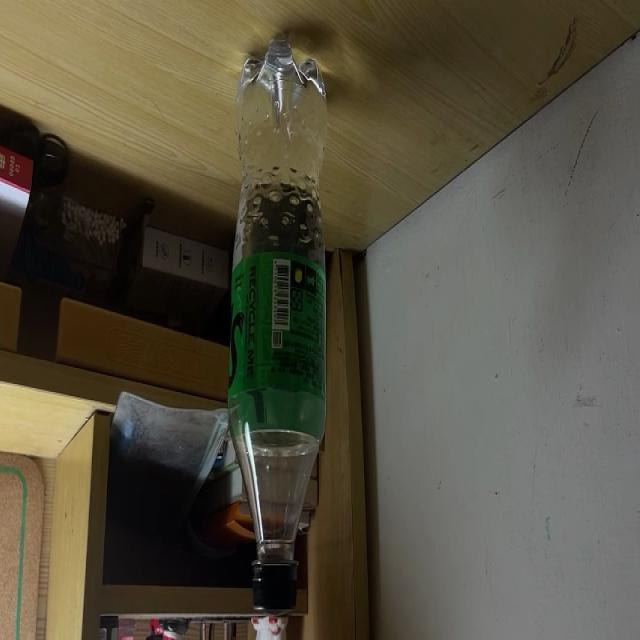Sprite: (227, 33, 328, 614)
